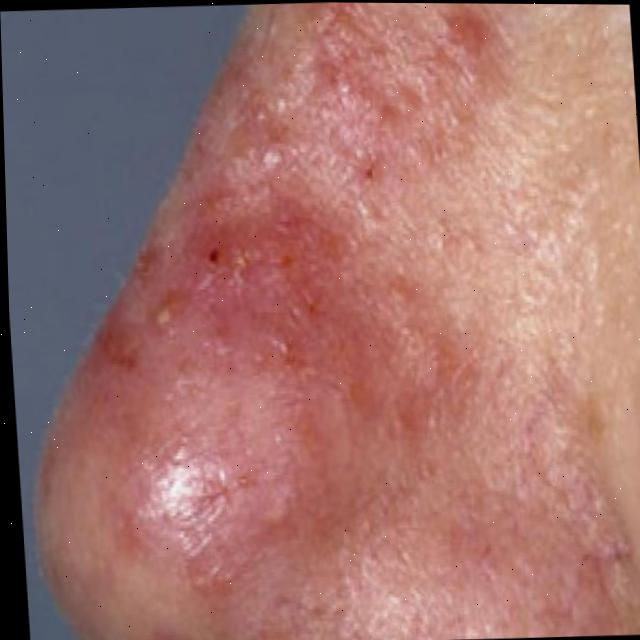Rosacea: (150, 35, 463, 375)
